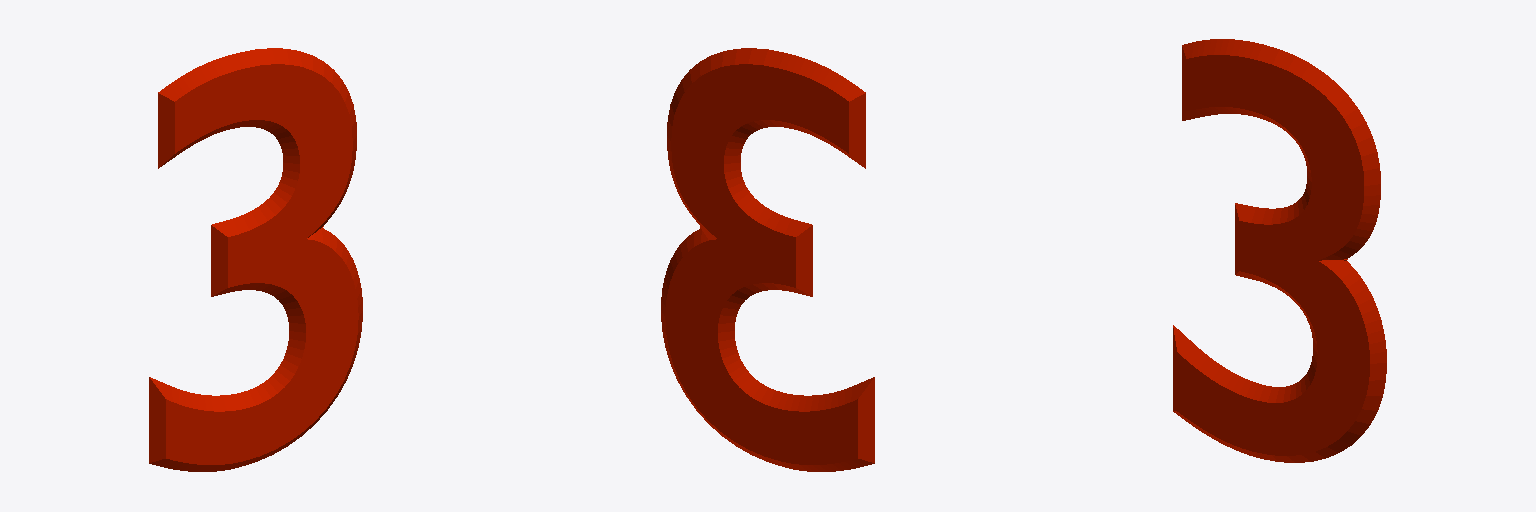
File: three.obj
The picture shows the model from 3 angles: view 1: azimuth 30°, elevation 25°; view 2: azimuth 150°, elevation 25°; view 3: azimuth 330°, elevation 25°; orthographic projection.
Parts seen in each view (by area): view 1: Text; view 2: Text; view 3: Text.
Part boxes in pixels (left/top/right/bottom): Text: left=149, top=48, right=362, bottom=471; Text: left=661, top=48, right=874, bottom=471; Text: left=1173, top=39, right=1386, bottom=462.
Size of the model in its own units: 0.4 by 0.74 by 0.04.